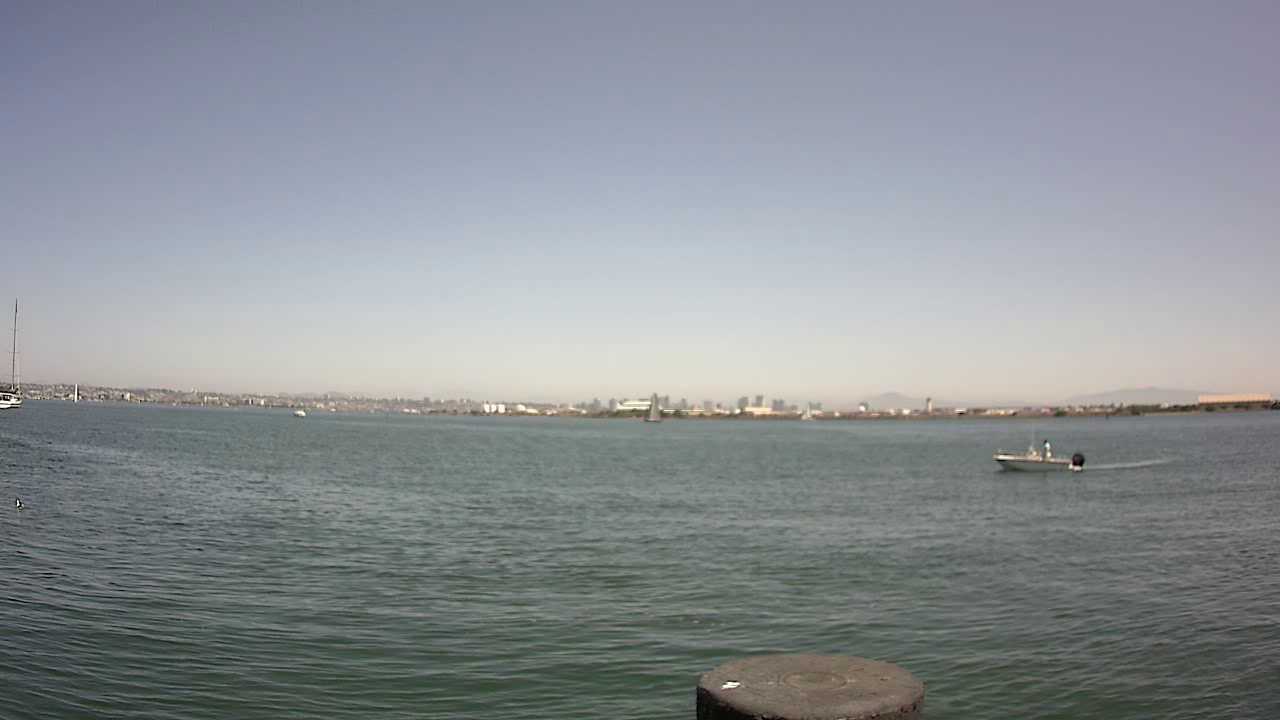target: (988, 432, 1095, 478)
